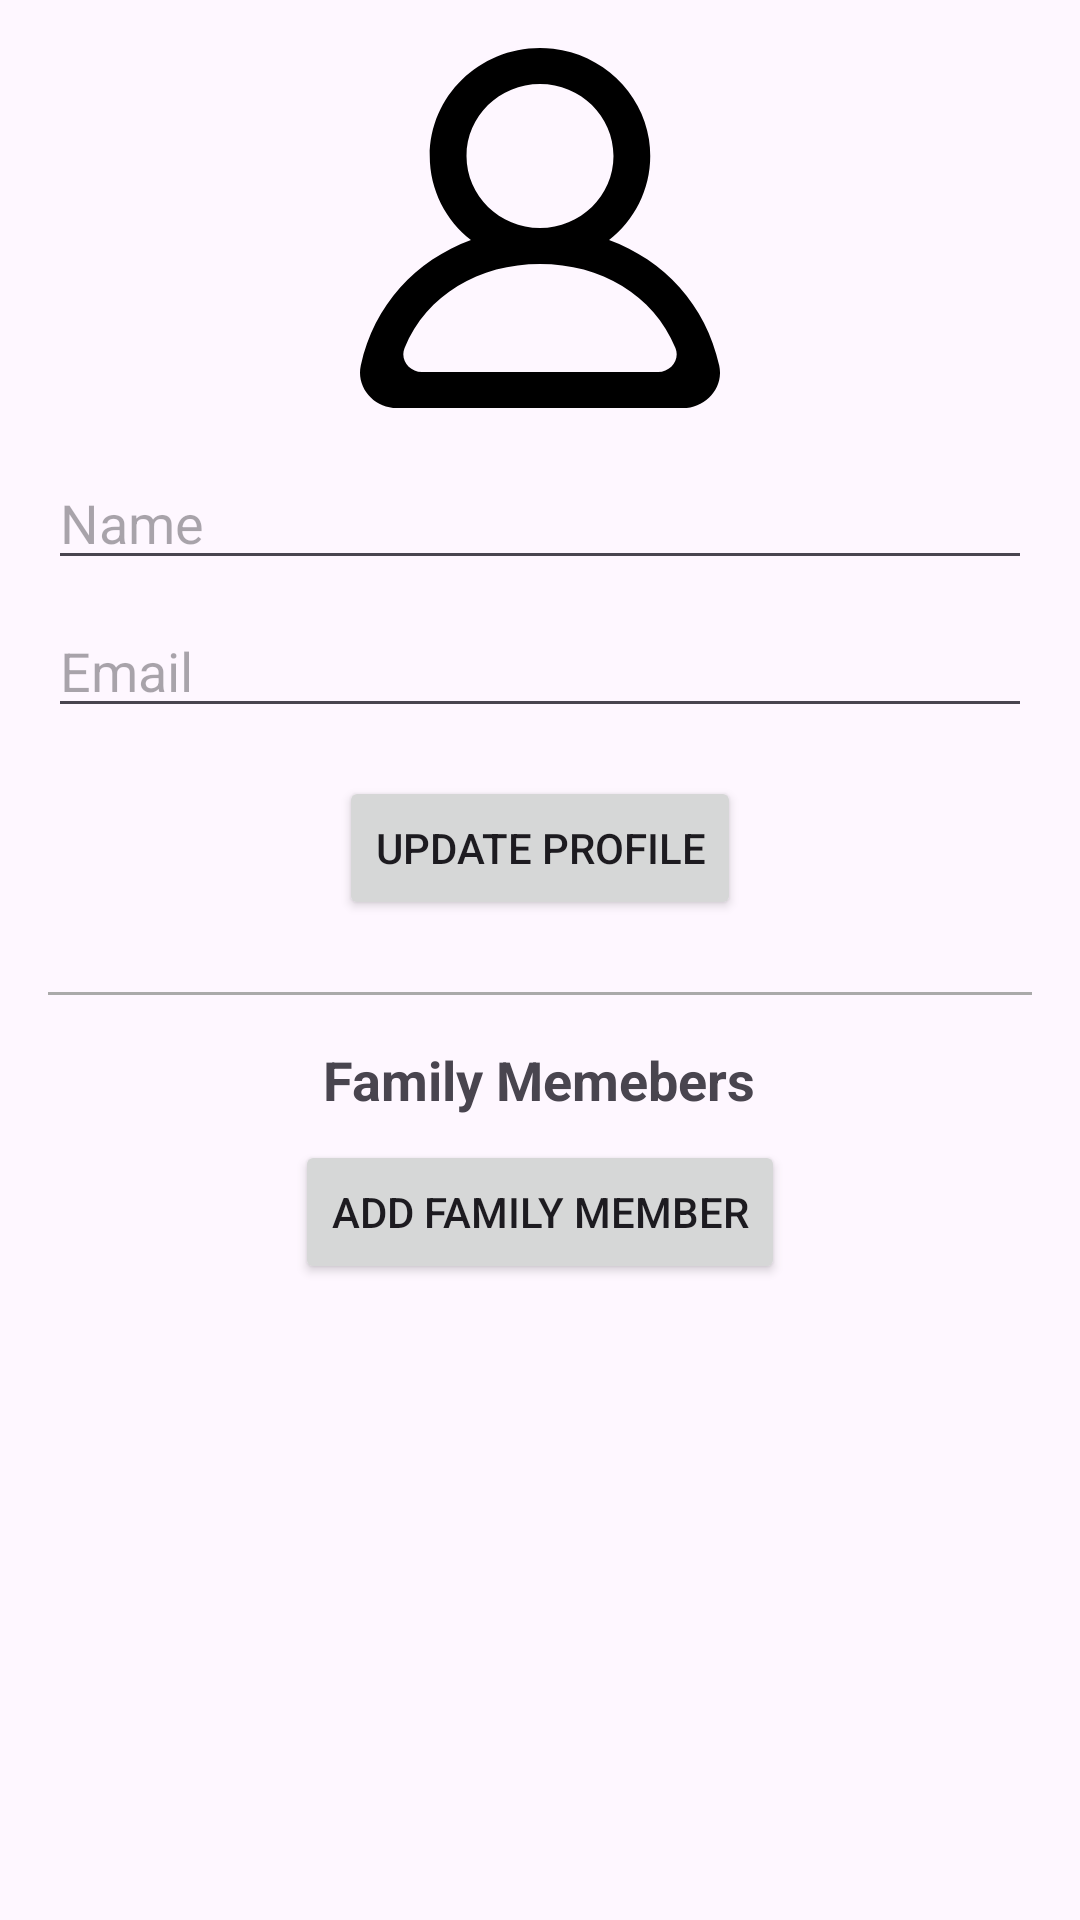

Where to tap for icons on this 1080px x 1920px app screen, as (x=x, y=y):
Profile Image: (x=540, y=228)
